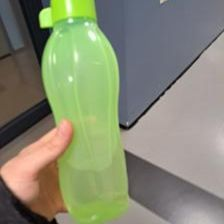bottle: (38, 0, 131, 224)
